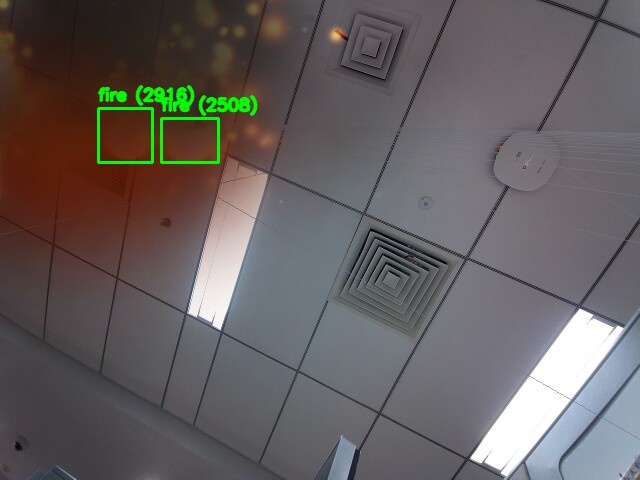fire: (98, 108, 152, 162), (161, 118, 218, 162)
